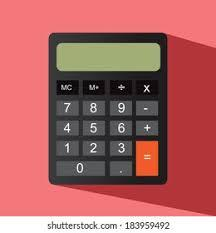Calculator: (43, 28, 171, 189)
